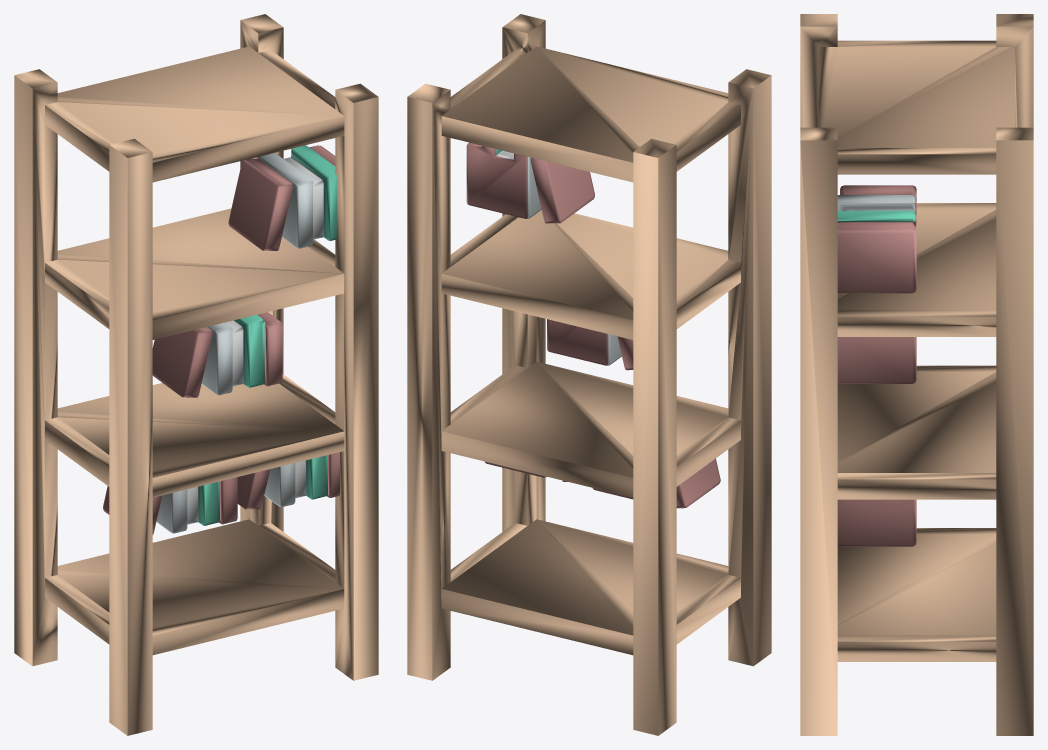
File: bookcase.glb
3 renders of one model, left to right at view 1: azimuth 30°, elevation 25°; view 2: azimuth 150°, elevation 25°; view 3: azimuth 270°, elevation 25°, orthographic. The views are drawn at different scales.
Parts seen in each view (by area): view 1: bookcase_bookcaseOpen(Clone), bookcase_books(Clone).003, bookcase_books(Clone).002, bookcase_books(Clone).001, bookcase_books(Clone); view 2: bookcase_bookcaseOpen(Clone), bookcase_books(Clone).003, bookcase_books(Clone).002, bookcase_books(Clone); view 3: bookcase_bookcaseOpen(Clone), bookcase_books(Clone).003, bookcase_books(Clone).001, bookcase_books(Clone).002.
Boxes of the visible parts, x1=… form: bookcase_bookcaseOpen(Clone): x1=14, y1=14, x2=378, y2=735; bookcase_books(Clone).003: x1=228, y1=145, x2=336, y2=250; bookcase_books(Clone).002: x1=152, y1=312, x2=282, y2=397; bookcase_books(Clone).001: x1=237, y1=452, x2=339, y2=509; bookcase_books(Clone): x1=103, y1=477, x2=237, y2=534; bookcase_bookcaseOpen(Clone): x1=407, y1=14, x2=771, y2=735; bookcase_books(Clone).003: x1=466, y1=142, x2=594, y2=223; bookcase_books(Clone).002: x1=547, y1=319, x2=633, y2=370; bookcase_books(Clone): x1=592, y1=458, x2=720, y2=508; bookcase_bookcaseOpen(Clone): x1=800, y1=14, x2=1033, y2=735; bookcase_books(Clone).003: x1=837, y1=185, x2=916, y2=293; bookcase_books(Clone).001: x1=837, y1=499, x2=916, y2=546; bookcase_books(Clone).002: x1=837, y1=337, x2=916, y2=383.
Bounding box in the file's own units: 1.12 × 2.46 × 0.875.
